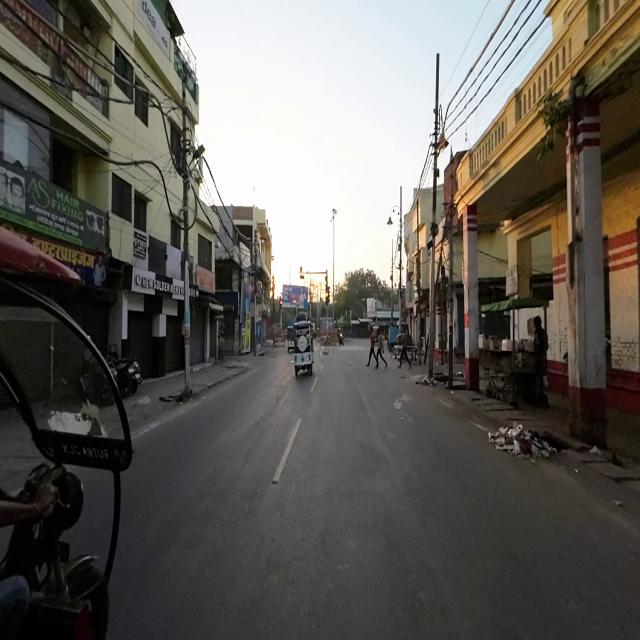Garbage: (488, 424, 548, 459)
